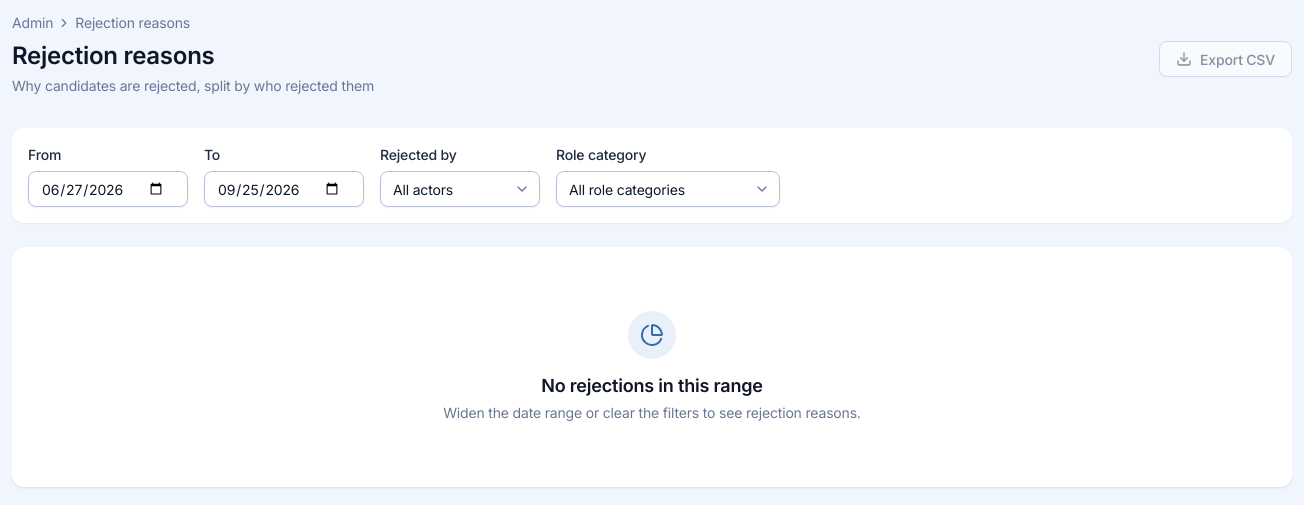
Test case: rejection-reasons report page › blocks the range and warns when a date is cleared
The image size is (1304, 505).
Clear the date field labelled "From": (108, 189) [28,171,188,207]
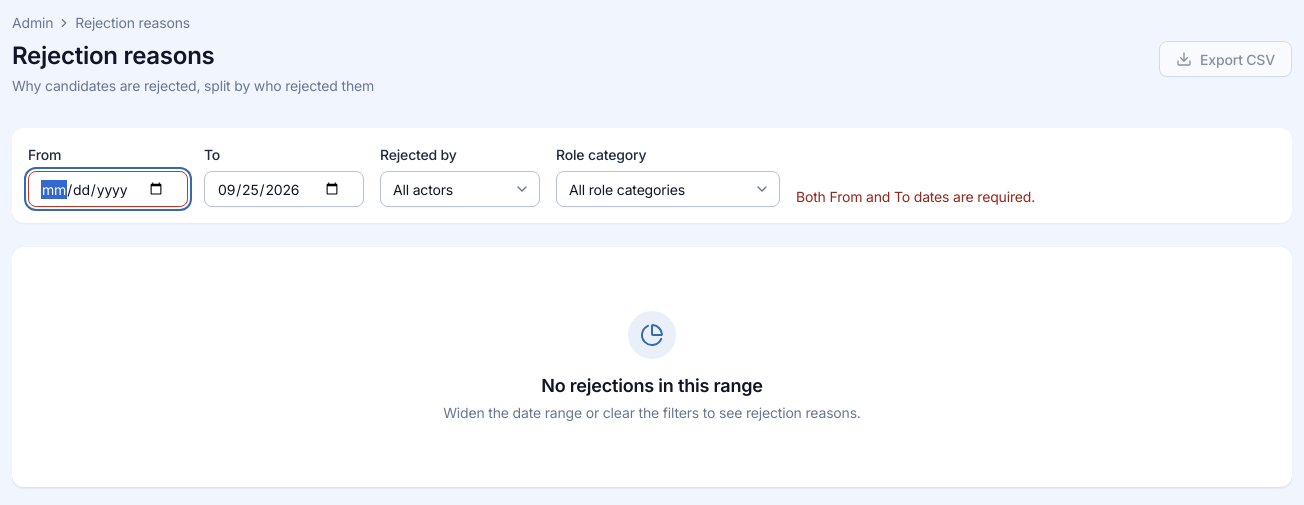
Check: the text "Both From and To dates are required." is shown, box [796,186,1035,207]
